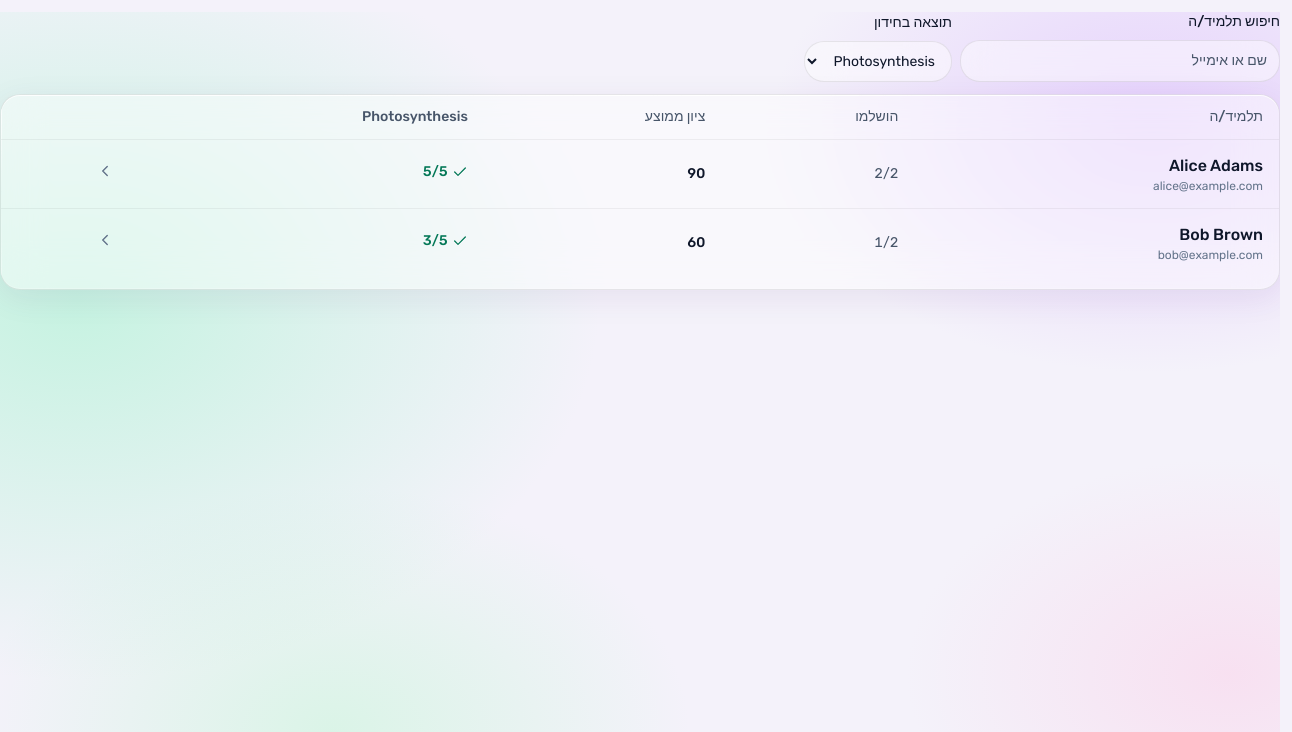
Scenario: RosterTable (class analytics) › filters the roster by name and says so when nothing matches
Type "bob" into the search field labelled "חיפוש תלמיד/ה". click: (1120, 61)
box: [960, 40, 1280, 82]
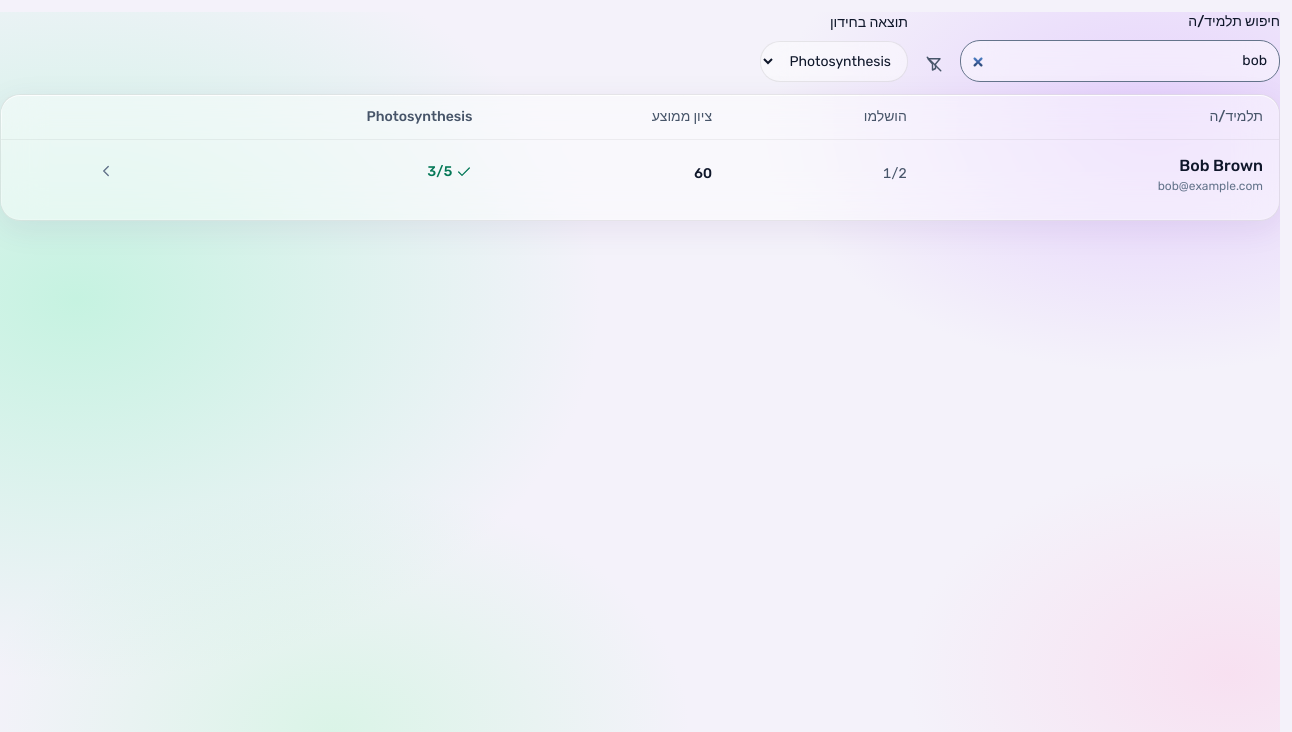
Expected: the link "Bob Brown" is shown, [1179, 156, 1263, 175]
Expected: the link "Alice Adams" is gone
Replace the text in the search field labelled "חיפוש תלמיד/ה" with "zzz". click: (1120, 61)
box: [960, 40, 1280, 82]
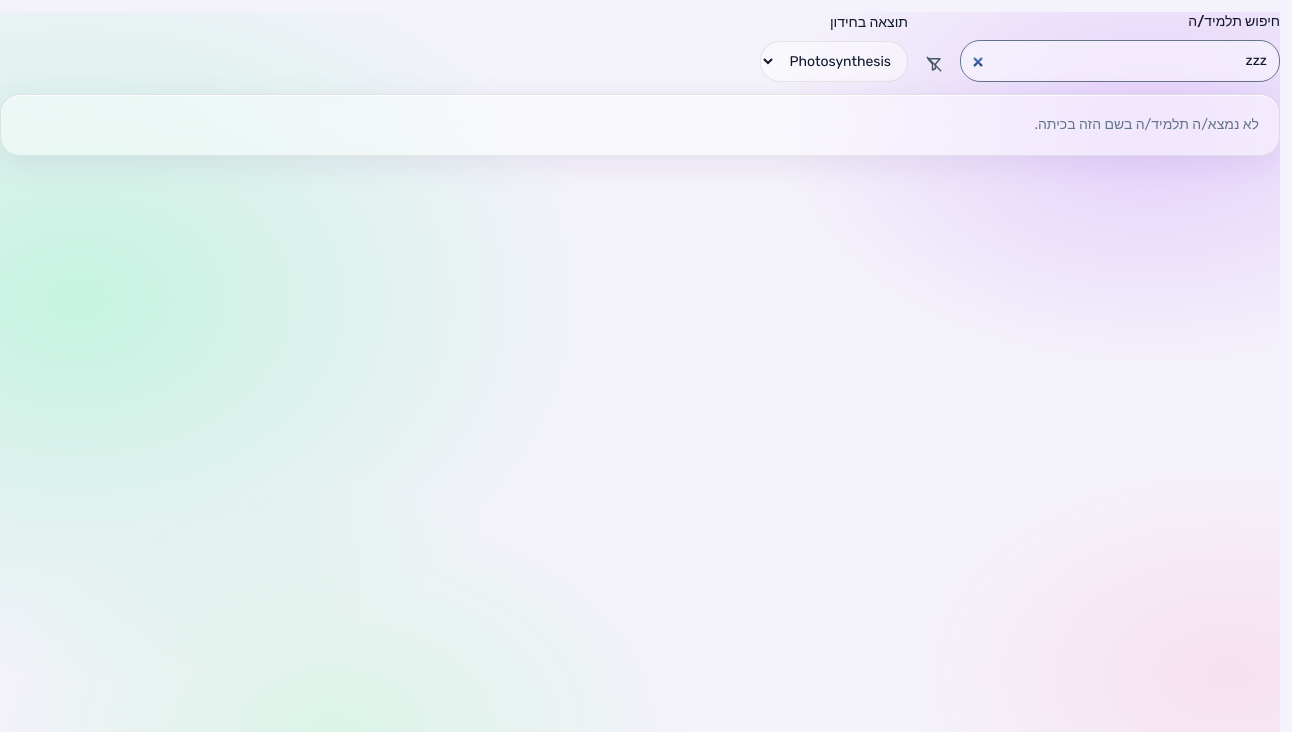
Expected: the text "לא נמצא/ה תלמיד/ה בשם הזה בכיתה." is shown, [0, 94, 1280, 156]
